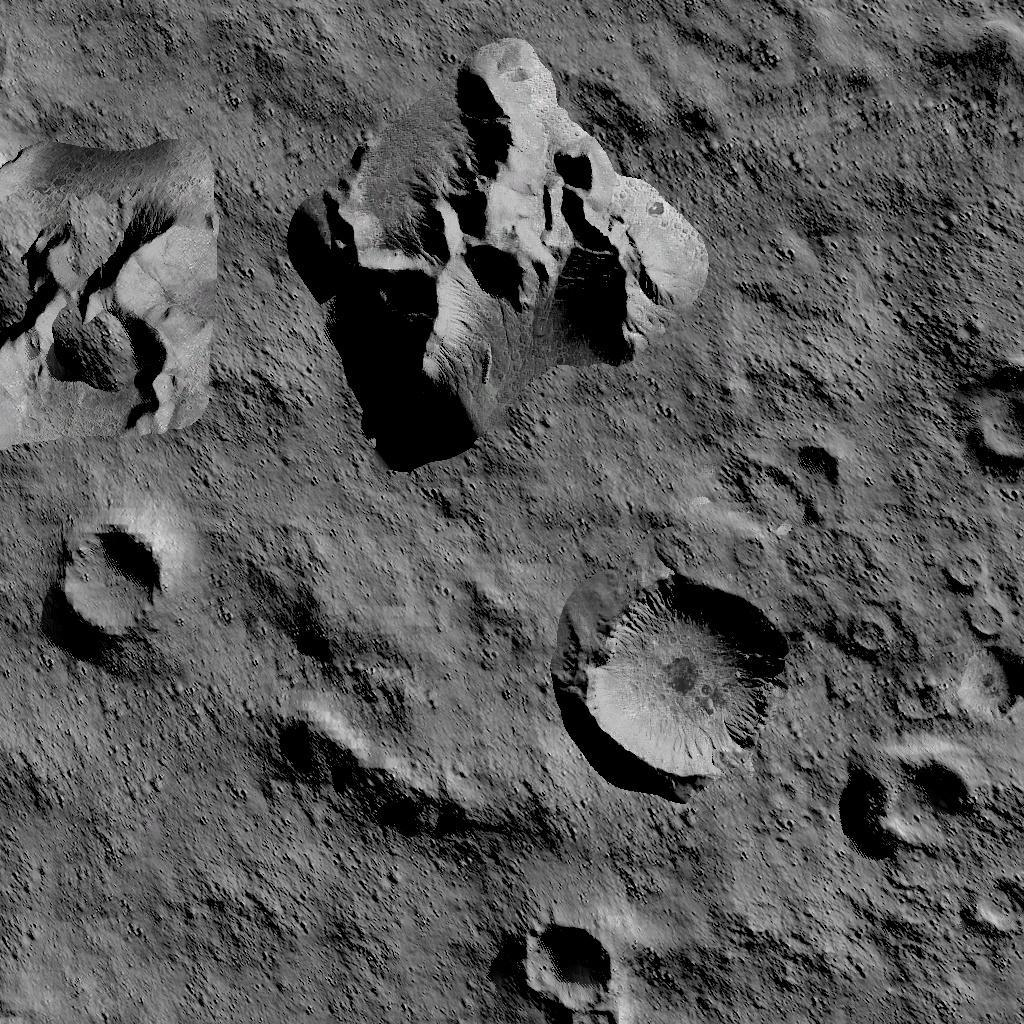Boulders: (285, 38, 713, 478), (0, 124, 227, 452), (265, 704, 521, 840), (247, 528, 435, 686), (901, 0, 1024, 101)
Crater: (548, 558, 800, 808), (25, 494, 187, 670), (852, 734, 984, 855), (507, 906, 633, 1024), (943, 348, 1024, 502), (947, 632, 1024, 727), (963, 872, 1024, 942)
Plan surface: (11, 854, 483, 1024), (739, 120, 1024, 310), (8, 680, 251, 840), (13, 2, 251, 109)
